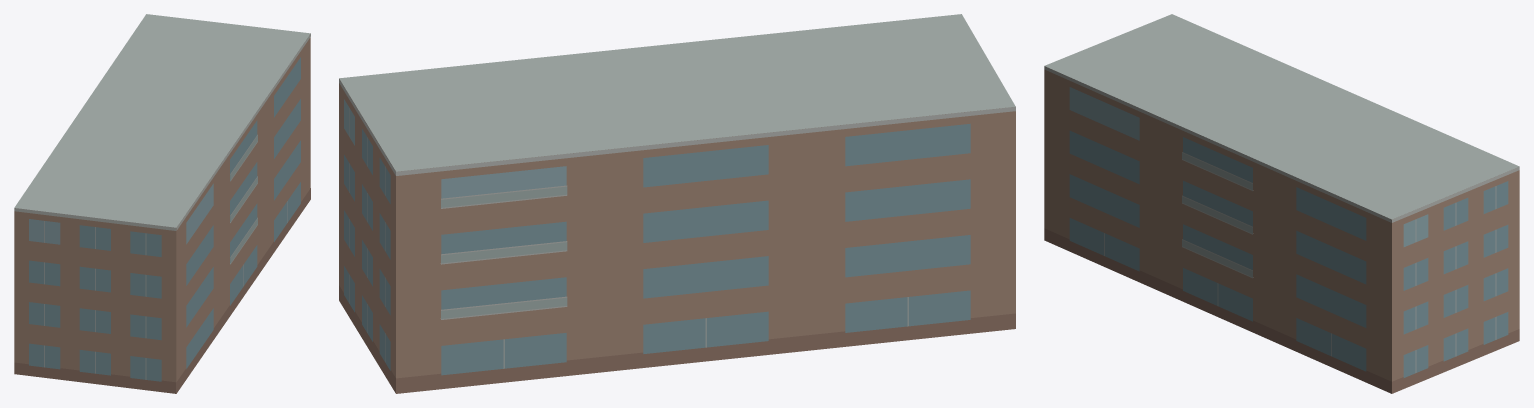
File: survey-upis-32596844.glb
3 views of the same model, side by side, from view 1: azimuth 30°, elevation 25°; view 2: azimuth 150°, elevation 25°; view 3: azimuth 270°, elevation 25° (orthographic). The views are drawn at different scales.
Visible parts, largest first — view 1: survey-upis-32596844.tmp; view 2: survey-upis-32596844.tmp; view 3: survey-upis-32596844.tmp.
Part boxes in pixels (bbox=[...]): survey-upis-32596844.tmp: bbox=[14, 14, 310, 393]; survey-upis-32596844.tmp: bbox=[339, 14, 1015, 393]; survey-upis-32596844.tmp: bbox=[1044, 14, 1519, 393].
Size of the model in its own units: 30.84 by 12.2 by 30.16.
